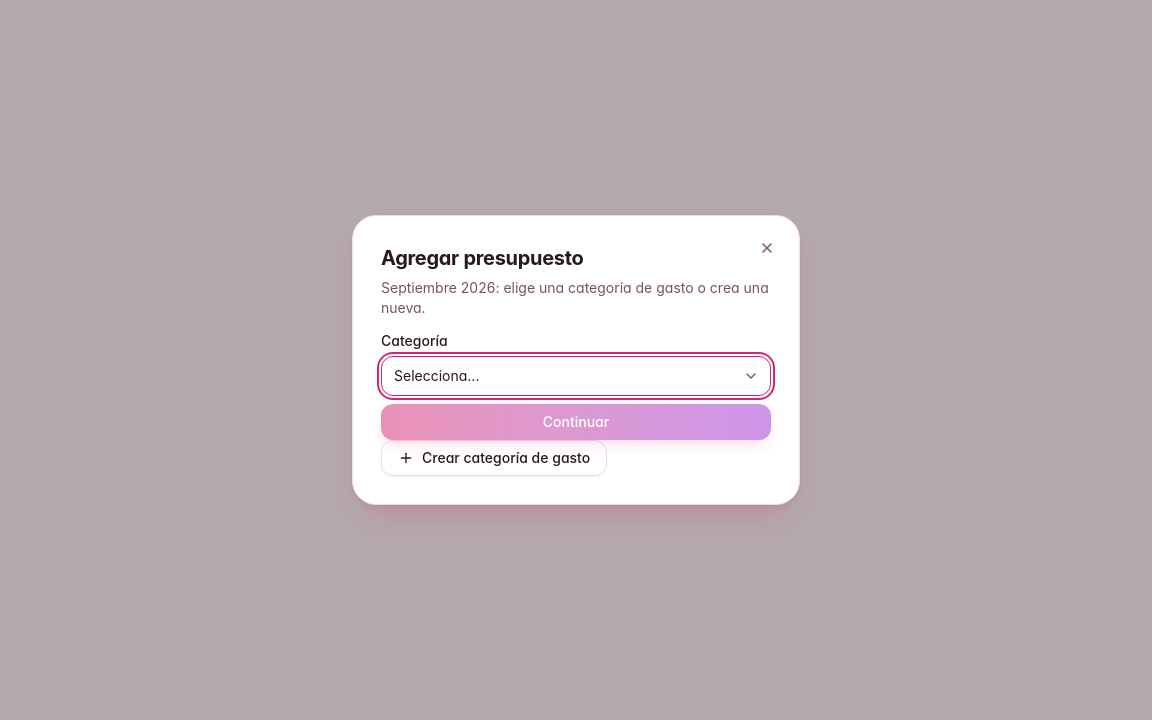
Test: AddBudgetDialog › en un mes cerrado solo deja ajustar ese mes
The width and height of the screenshot is (1152, 720).
Select "Entretenimiento" in the dropdown labelled "Categoría": [576, 376] box left=381, top=356, right=771, bottom=396
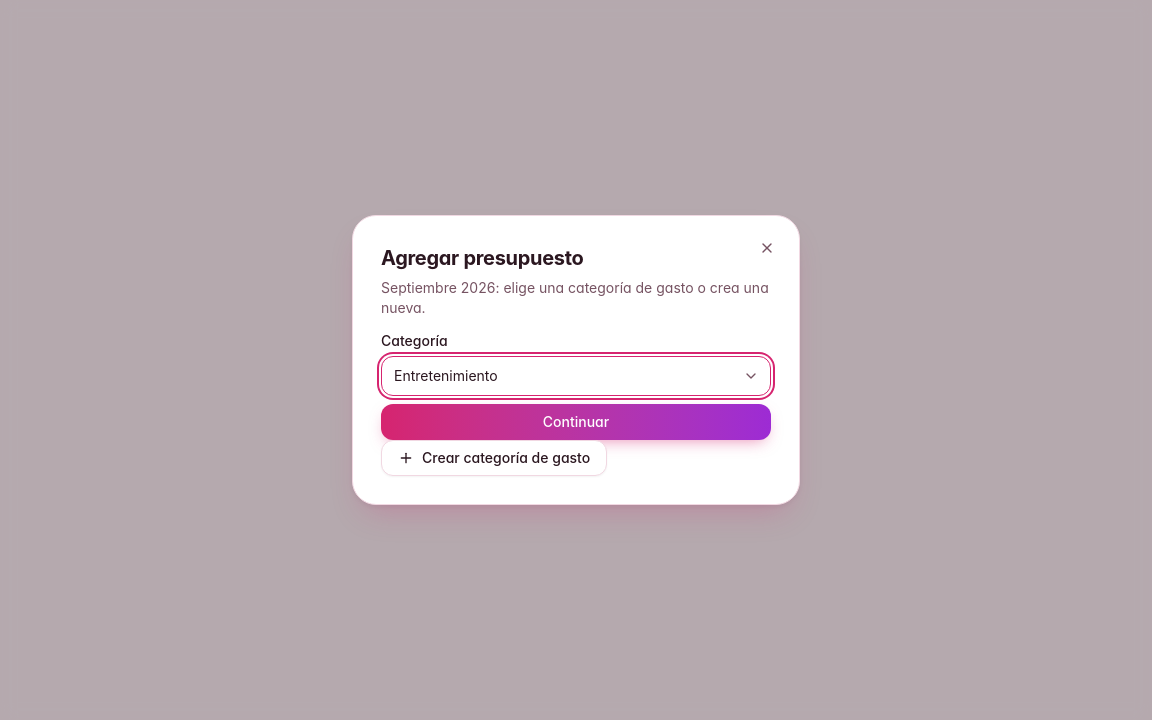
Click the button "Continuar": [576, 422] box left=381, top=404, right=771, bottom=440
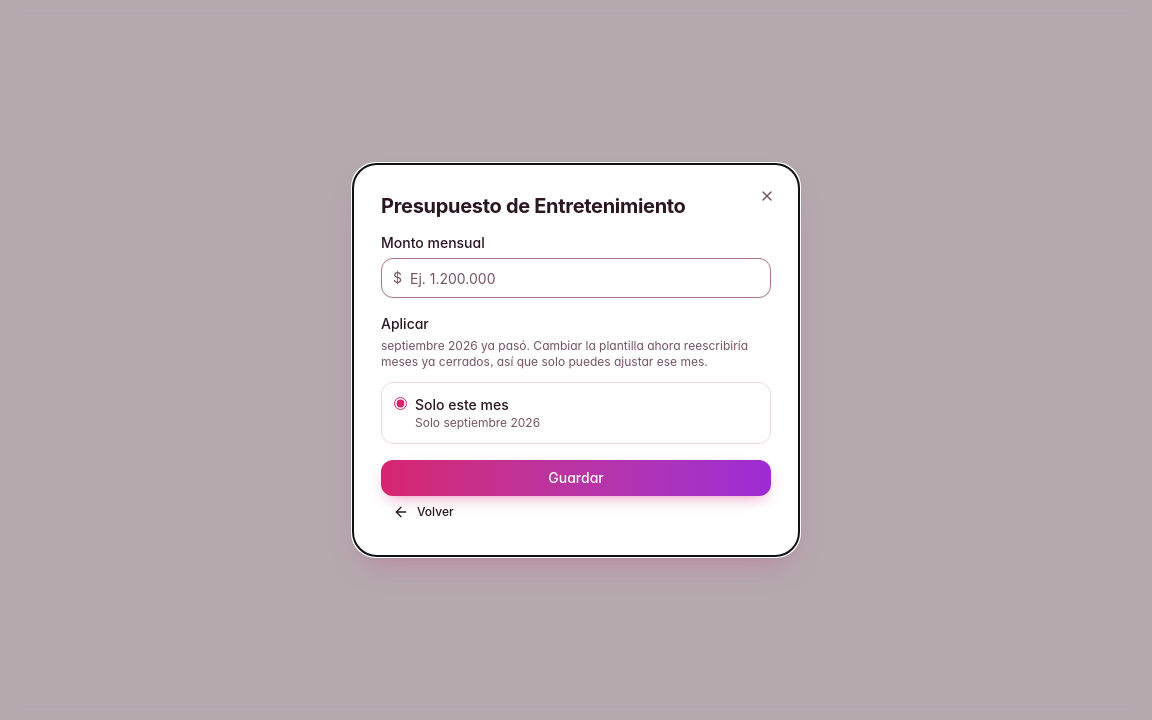
Now the radio button labelled "Solo este mes solo septiembre 2026" is checked, box left=394, top=397, right=407, bottom=410
